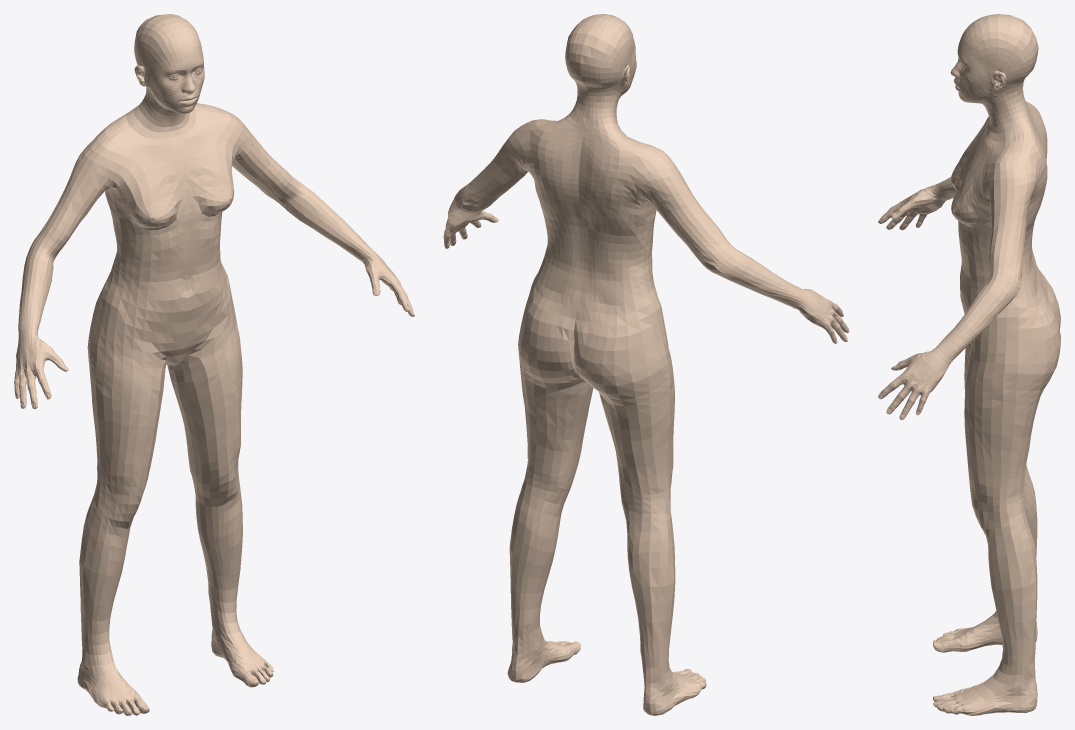
The model's file is female-adult-average-toned.glb.
3 renders of one model, left to right at view 1: azimuth 30°, elevation 25°; view 2: azimuth 150°, elevation 25°; view 3: azimuth 270°, elevation 25°, orthographic.
Visible parts, largest first — view 1: world; view 2: world; view 3: world.
Part boxes in pixels (x1,y1,x2,y2): world: (14, 14, 414, 715); world: (443, 14, 849, 715); world: (878, 14, 1060, 715).
Bounding box in the file's own units: 1.12 × 1.81 × 0.4541.
